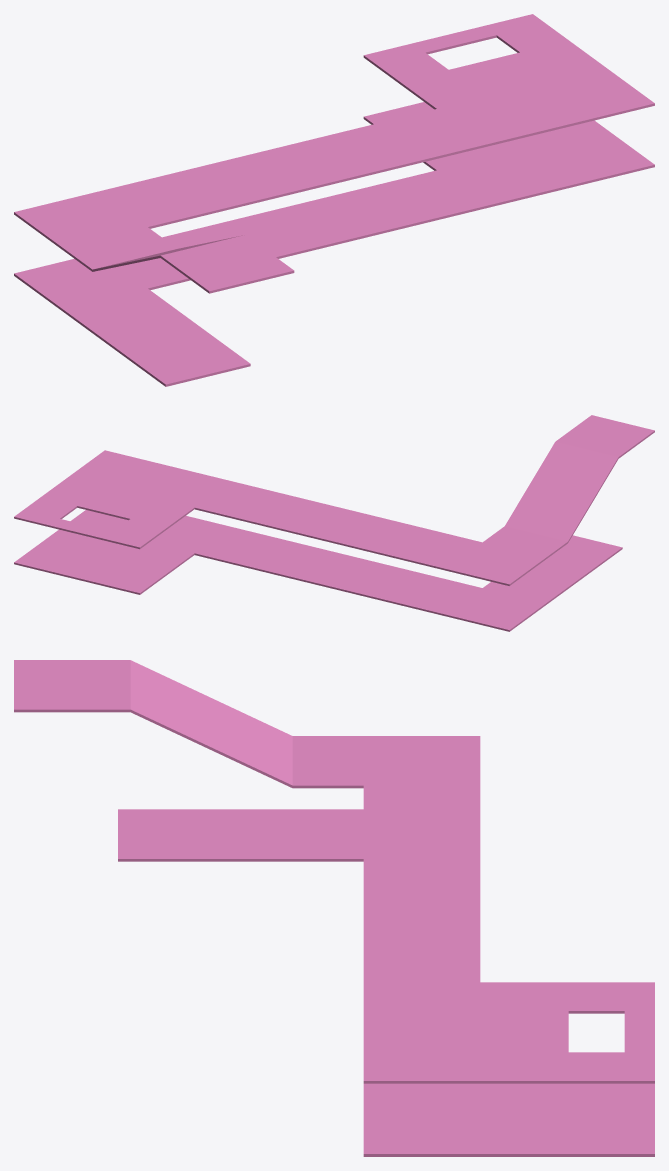
File: Passagem2.fbx
3 views of the same model, one above another, from view 1: azimuth 30°, elevation 25°; view 2: azimuth 150°, elevation 25°; view 3: azimuth 270°, elevation 25° (orthographic). The views are drawn at different scales.
Visible parts, largest first — view 1: Teto3, Piso; view 2: Teto3, Piso; view 3: Teto3, Piso.
Boxes of the visible parts, x1,y1,x2,y2 form: Teto3: [14, 14, 654, 293]; Piso: [14, 102, 654, 386]; Teto3: [14, 415, 654, 585]; Piso: [14, 510, 622, 631]; Teto3: [14, 660, 654, 1083]; Piso: [118, 809, 654, 1156].
Size of the model in its own units: 6720 by 1383 by 5280.
